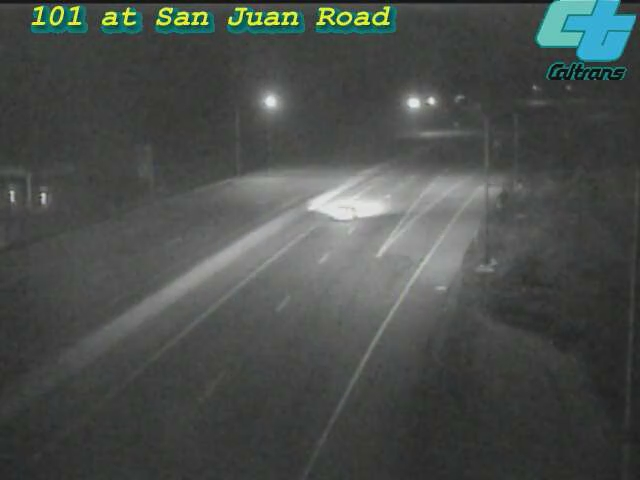vehicle: (297, 174, 377, 254)
